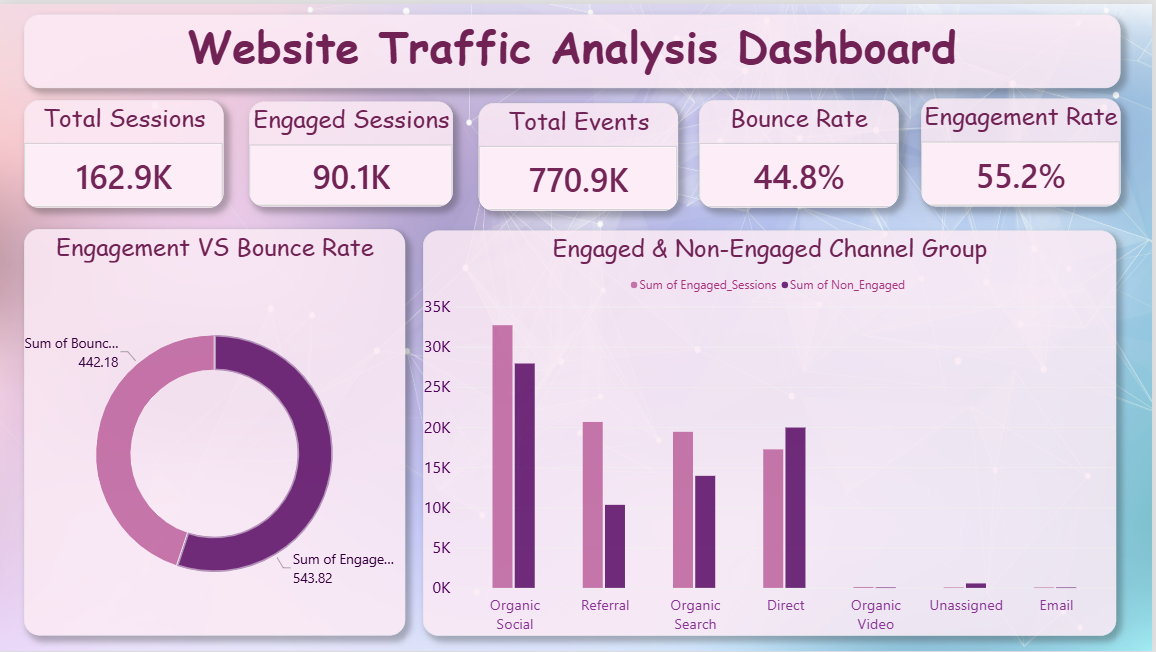

Layout of this report page (visuals, bound fields, positions):
{"tool":"powerbi","page":{"name":"Page 1","canvas":[1920,1080],"ordinal":0},"visuals":[{"type":"donutChart","title":"Engagement VS Bounce Rate","fields":{"Y":["Sum(Table.Engagement rate)","Sum(Table.Bounce Rate)"]},"box":[40,375,635,677.5],"z":0},{"type":"cardVisual","title":"Total Sessions","fields":{"Data":["Sum(website_performance.Sessions)"]},"box":[40,160,332.5,180],"z":1000},{"type":"cardVisual","title":"Engaged Sessions","fields":{"Data":["Sum(website_performance.Engaged_Sessions)"]},"box":[415,162.5,340,175],"z":2000},{"type":"cardVisual","title":"Engagement Rate","fields":{"Data":["Avg(Table.Engagement rate)"]},"box":[1535,157.5,332.5,180],"z":3000},{"type":"cardVisual","title":"Bounce Rate","fields":{"Data":["Avg(Table.Bounce Rate)"]},"box":[1165,160,332.5,180],"z":4000},{"type":"cardVisual","title":"Total Events","fields":{"Data":["Sum(website_performance.Event count)"]},"box":[797.5,165,332.5,180],"z":5000},{"type":"textbox","box":[40,17.5,1827.5,122.5],"z":6000},{"type":"clusteredColumnChart","title":"Engaged & Non-Engaged Channel Group","fields":{"Category":["Engaged_vs_non_engaged_session.Channel_Group"],"Y":["Sum(Engaged_vs_non_engaged_session.Engaged_Sessions)","Sum(Engaged_vs_non_engaged_session.Non_Engaged)"]},"box":[705,377.5,1155,675],"z":7000}]}

Visuals, with their boxes in screenshot pixels (x1, y1, x2, y2), scaled from the page's 1920x1080 canvas onto the 1156x652 screenshot:
"Engagement VS Bounce Rate" donutChart: [left=24, top=226, right=406, bottom=635]
"Total Sessions" cardVisual: [left=24, top=97, right=224, bottom=205]
"Engaged Sessions" cardVisual: [left=250, top=98, right=455, bottom=204]
"Engagement Rate" cardVisual: [left=924, top=95, right=1124, bottom=204]
"Bounce Rate" cardVisual: [left=701, top=97, right=902, bottom=205]
"Total Events" cardVisual: [left=480, top=100, right=680, bottom=208]
textbox: [left=24, top=11, right=1124, bottom=85]
"Engaged & Non-Engaged Channel Group" clusteredColumnChart: [left=424, top=228, right=1120, bottom=635]
